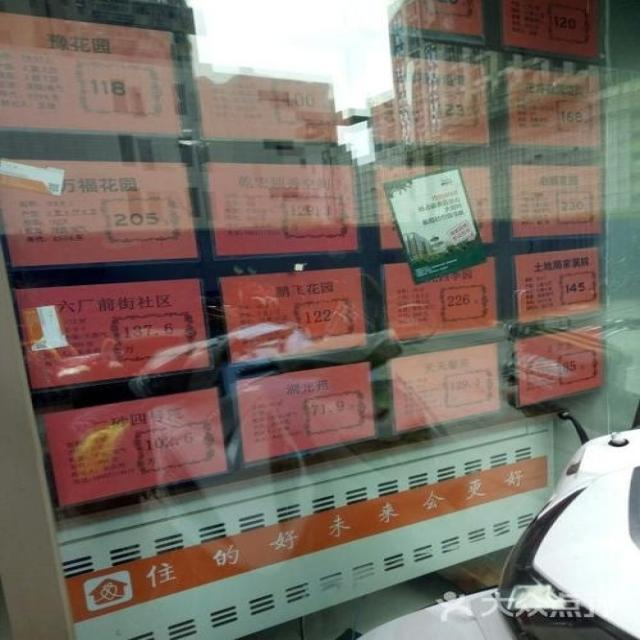box: (35, 373, 237, 521), (0, 12, 183, 161), (0, 159, 202, 288), (13, 279, 219, 402), (218, 351, 385, 476), (188, 161, 364, 279), (206, 266, 379, 372), (353, 33, 493, 163), (178, 75, 339, 167), (358, 161, 497, 267), (379, 332, 511, 441), (367, 256, 507, 348), (489, 50, 604, 155), (490, 151, 604, 255), (507, 315, 605, 410), (500, 247, 604, 330), (355, 0, 492, 48), (493, 0, 600, 61)
